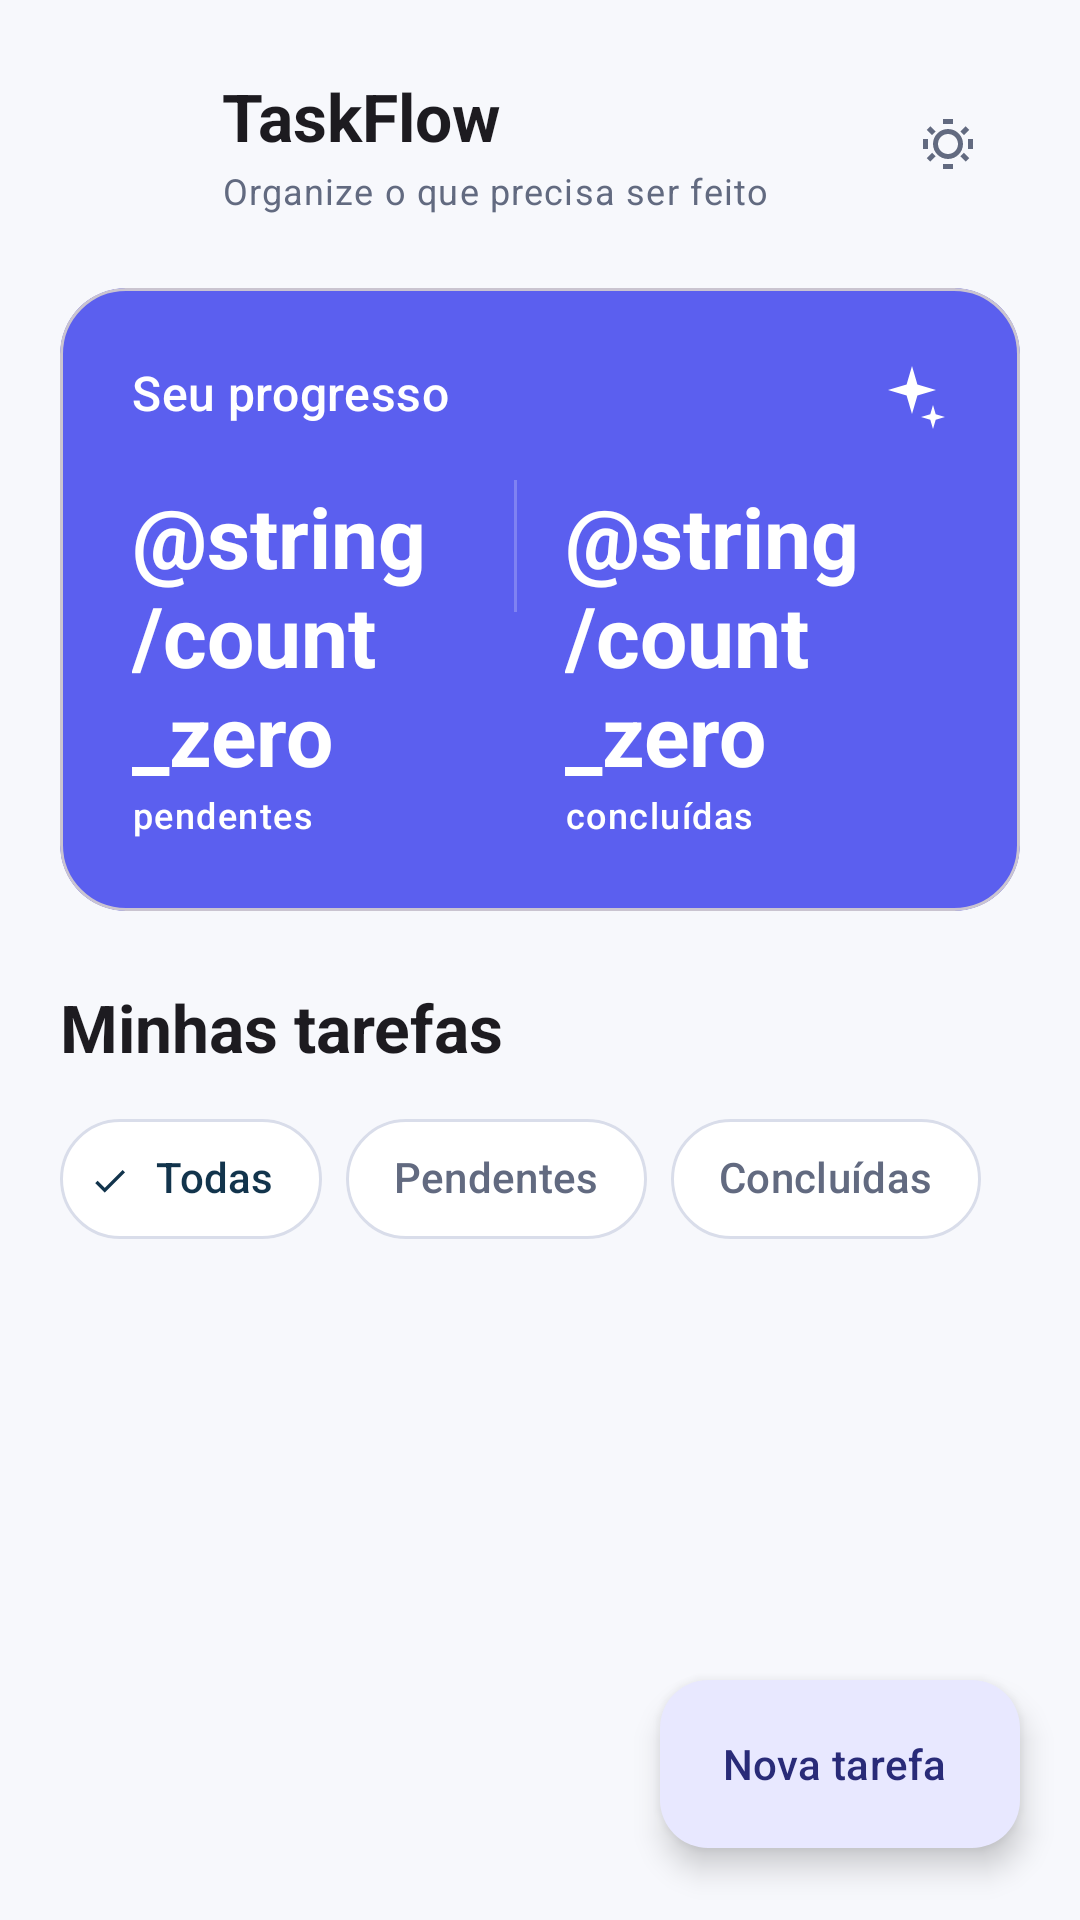

Icons on this 1080*1920 Android screen, each with its box as (x1, y1, x2, y2):
Selecionar tema: (923, 119, 973, 169)
